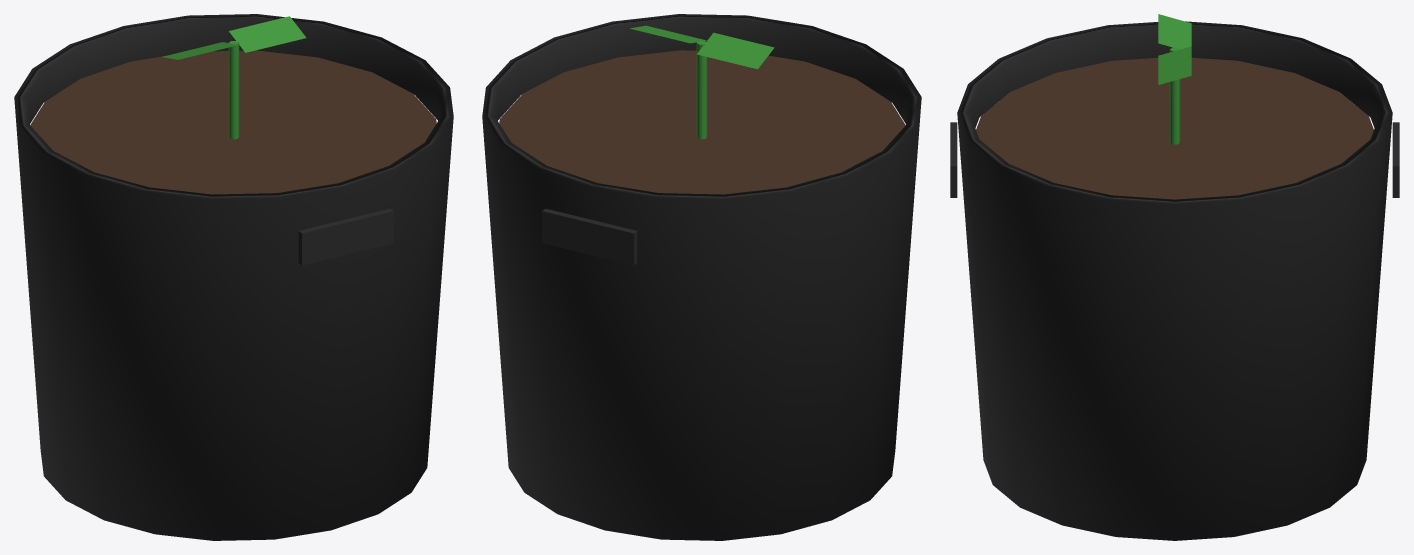
Rendered from pot-fabric-3gal-plant-seedling.glb.
3 views of the same model, side by side, from view 1: azimuth 30°, elevation 25°; view 2: azimuth 150°, elevation 25°; view 3: azimuth 270°, elevation 25° (orthographic).
Parts seen in each view (by area): view 1: pot_body, soil_surface, pot_handles, plant_leaves, plant_stem; view 2: pot_body, soil_surface, pot_handles, plant_leaves, plant_stem; view 3: pot_body, soil_surface, plant_leaves, pot_handles, plant_stem.
Part boxes in pixels (left/top/right/bottom): pot_body: left=14, top=14, right=453, bottom=540; soil_surface: left=30, top=50, right=436, bottom=194; pot_handles: left=298, top=208, right=393, bottom=265; plant_leaves: left=162, top=16, right=306, bottom=59; plant_stem: left=228, top=41, right=239, bottom=139; pot_body: left=482, top=14, right=921, bottom=540; soil_surface: left=499, top=50, right=905, bottom=194; pot_handles: left=542, top=208, right=637, bottom=265; plant_leaves: left=630, top=25, right=774, bottom=69; plant_stem: left=696, top=41, right=707, bottom=139; pot_body: left=957, top=21, right=1392, bottom=540; soil_surface: left=976, top=57, right=1373, bottom=199; plant_leaves: left=1158, top=14, right=1191, bottom=84; pot_handles: left=950, top=122, right=1399, bottom=197; plant_stem: left=1169, top=47, right=1180, bottom=144.
Bounding box in the file's own units: 0.25 × 0.263 × 0.258.
